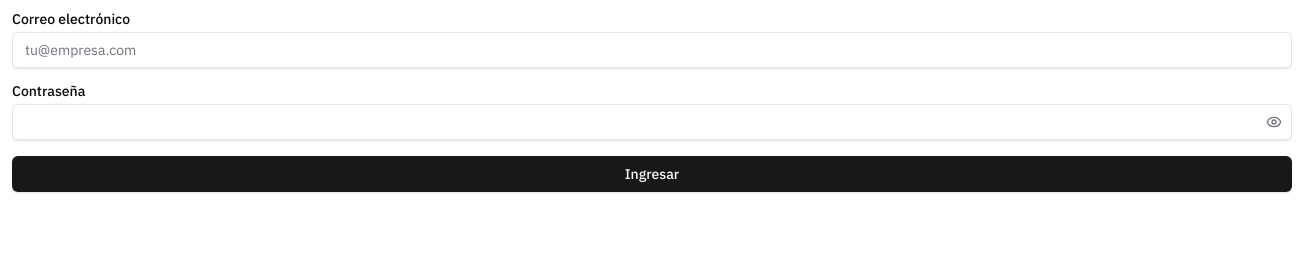
Scenario: LoginForm — credentials step › shows inline error for wrong credentials
Type "notexist@example.com" into the field labelled "Correo electrónico" at (652,50), box [12, 32, 1292, 68]
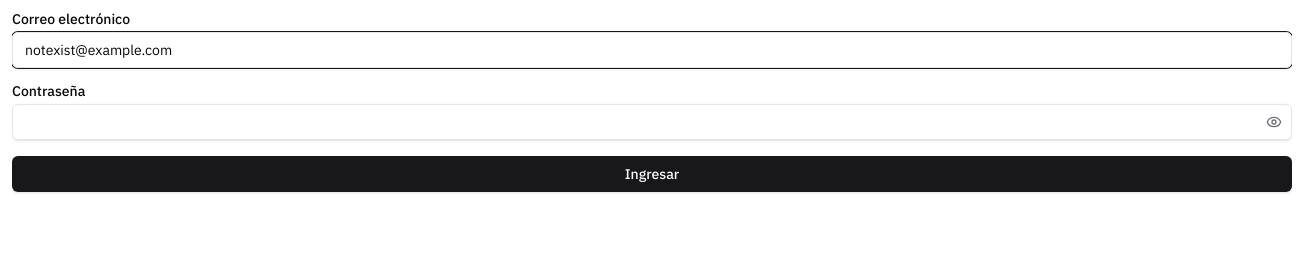
Type "wrong-password" into the password field labelled "Contraseña" at (652,122), box [12, 104, 1292, 140]
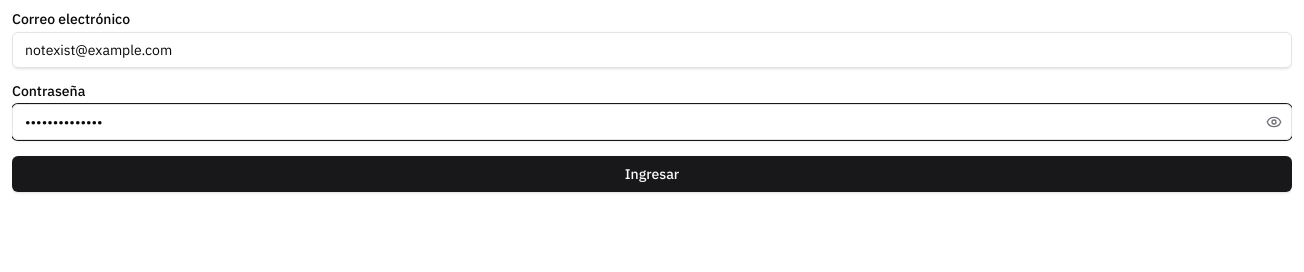
Click the button "Ingresar" at (652,174), box [12, 156, 1292, 192]
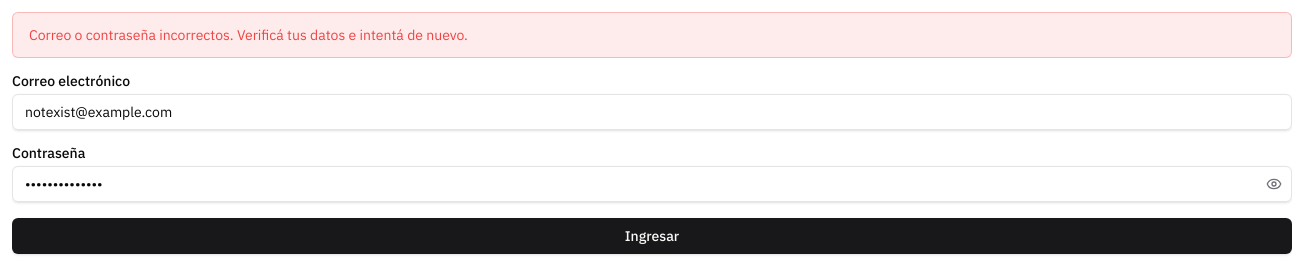
Result: the message "Correo o contraseña incorrectos. Verificá tus datos e intentá de nuevo." is shown at [12, 12, 1292, 58]
